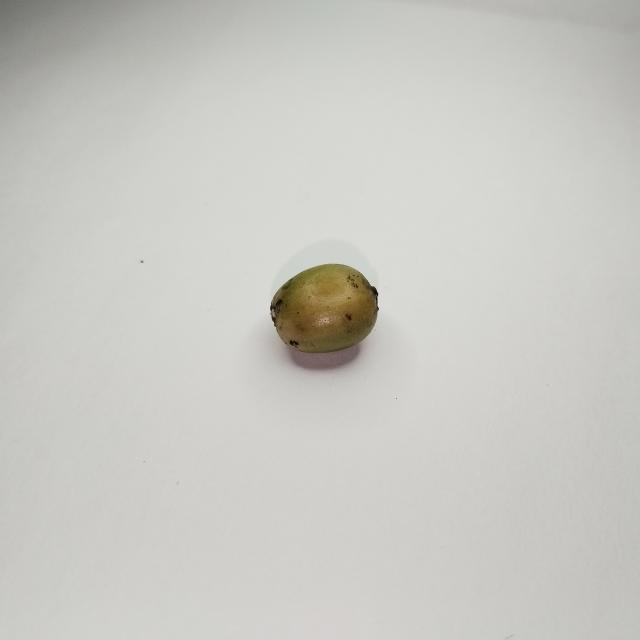Sano: (270, 264, 378, 353)
